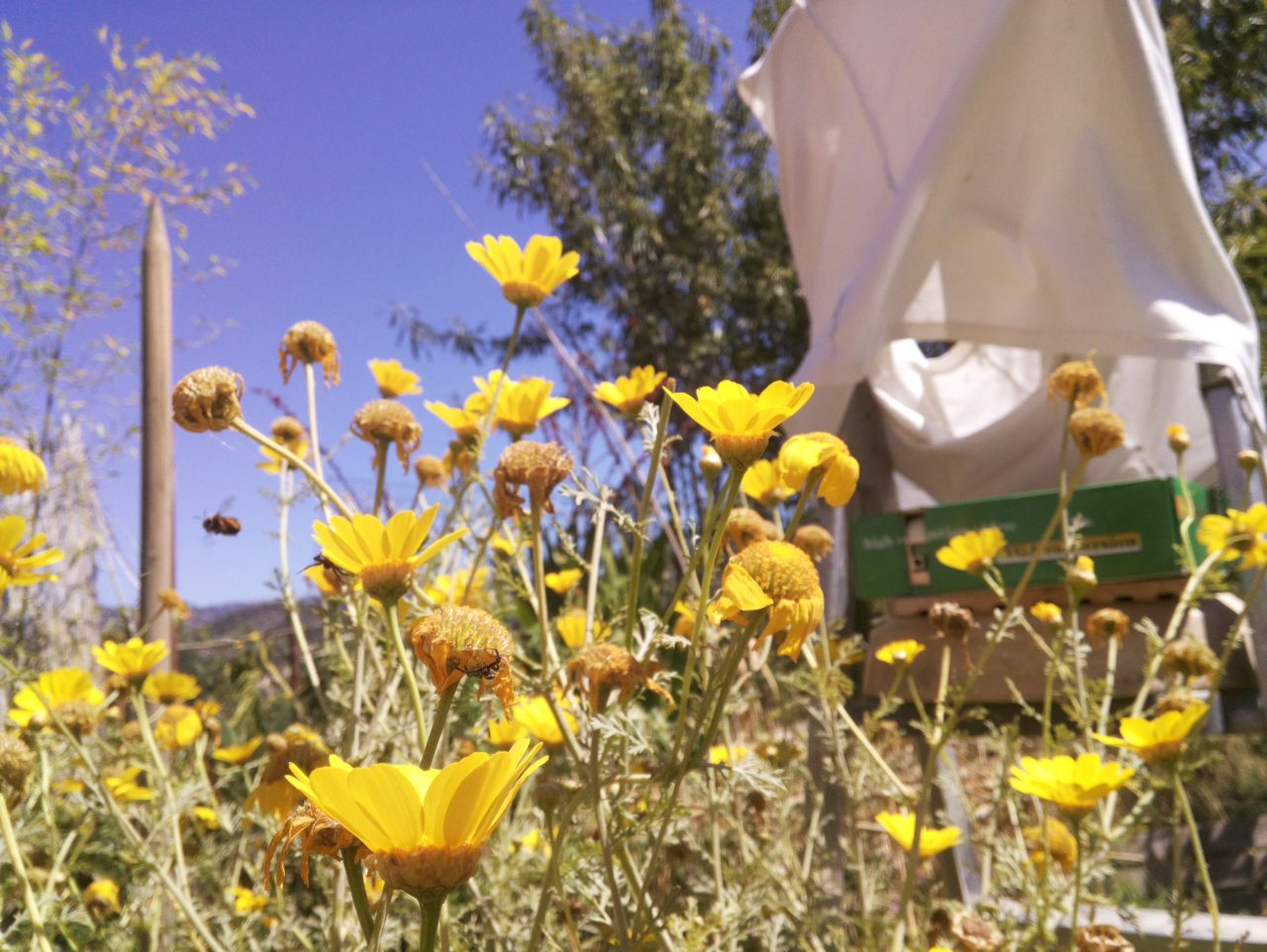Unidentified insect: (193, 499, 265, 554)
